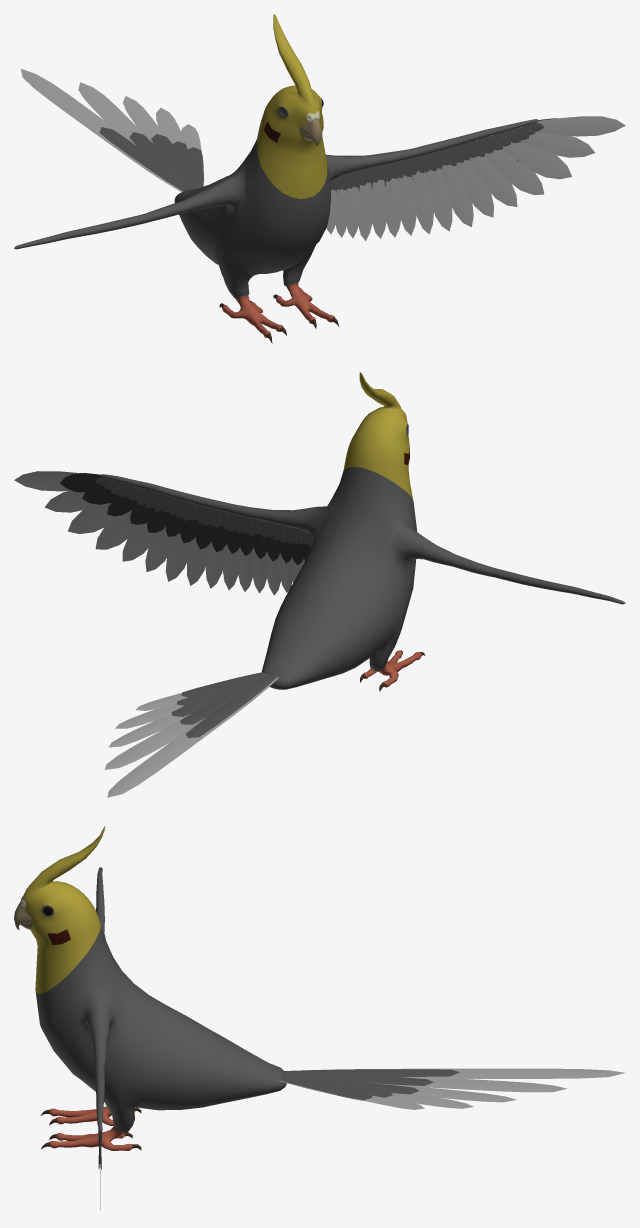
Rendered from cockatiel.obj.
3 renders of one model, top to bottom at view 1: azimuth 30°, elevation 25°; view 2: azimuth 150°, elevation 25°; view 3: azimuth 270°, elevation 25°, orthographic. The views are drawn at different scales.
Visible parts, largest first — view 1: cockatiel, feather_tail_primary_005, feather_flight_primary_016, feather_flight_primary_014, feather_flight_primary_013, feather_tail_primary_004, feather_flight_primary_015, feather_flight_primary_012, feather_tail_secondary_005, feather_flight_primary_010, feather_flight_primary_011, feather_flight_primary_009 (+12 smaller); view 2: cockatiel, feather_tail_primary_005, feather_tail_primary_004, feather_tail_secondary_005, feather_flight_primary_014, feather_flight_primary_013, feather_flight_primary_016, feather_flight_primary_010, feather_tail_primary_003, feather_flight_primary_012, feather_flight_primary_011, feather_tail_secondary_004 (+6 smaller); view 3: cockatiel, feather_tail_primary_005, feather_tail_primary_004, feather_tail_secondary_005, feather_tail_secondary_004, feather_tail_primary_003, feather_tail_secondary_003, feather_tail_primary_002, feather_tail_secondary_001, feather_tail_primary_001.
Boxes of the visible parts, left/top/right/bottom form: cockatiel: left=14, top=14, right=538, bottom=343; feather_tail_primary_005: left=21, top=69, right=182, bottom=191; feather_flight_primary_016: left=520, top=116, right=625, bottom=136; feather_flight_primary_014: left=491, top=135, right=571, bottom=179; feather_flight_primary_013: left=476, top=139, right=544, bottom=194; feather_tail_primary_004: left=78, top=82, right=149, bottom=142; feather_flight_primary_015: left=506, top=129, right=595, bottom=157; feather_flight_primary_012: left=469, top=155, right=517, bottom=206; feather_tail_secondary_005: left=99, top=127, right=189, bottom=191; feather_flight_primary_010: left=440, top=164, right=473, bottom=227; feather_flight_primary_011: left=455, top=160, right=493, bottom=217; feather_flight_primary_009: left=425, top=168, right=452, bottom=231; cockatiel: left=100, top=372, right=625, bottom=691; feather_tail_primary_005: left=107, top=677, right=278, bottom=797; feather_tail_primary_004: left=104, top=719, right=201, bottom=769; feather_tail_secondary_005: left=186, top=674, right=277, bottom=737; feather_flight_primary_014: left=68, top=503, right=131, bottom=534; feather_flight_primary_013: left=95, top=512, right=143, bottom=549; feather_flight_primary_016: left=14, top=471, right=120, bottom=491; feather_flight_primary_010: left=165, top=533, right=195, bottom=581; feather_tail_primary_003: left=109, top=714, right=190, bottom=747; feather_flight_primary_012: left=122, top=522, right=161, bottom=561; feather_flight_primary_011: left=145, top=526, right=179, bottom=571; feather_tail_secondary_004: left=180, top=675, right=269, bottom=724; cockatiel: left=14, top=826, right=286, bottom=1150; feather_tail_primary_005: left=309, top=1068, right=625, bottom=1078; feather_tail_primary_004: left=369, top=1078, right=567, bottom=1092; feather_tail_secondary_005: left=282, top=1069, right=459, bottom=1076; feather_tail_secondary_004: left=283, top=1074, right=433, bottom=1085; feather_tail_primary_003: left=405, top=1086, right=516, bottom=1102; feather_tail_secondary_003: left=282, top=1076, right=418, bottom=1094; feather_tail_primary_002: left=389, top=1093, right=473, bottom=1108; feather_tail_secondary_001: left=279, top=1077, right=372, bottom=1099; feather_tail_primary_001: left=279, top=1080, right=424, bottom=1109.
Size of the model in its own units: 0.4399 by 0.2053 by 0.3707.
